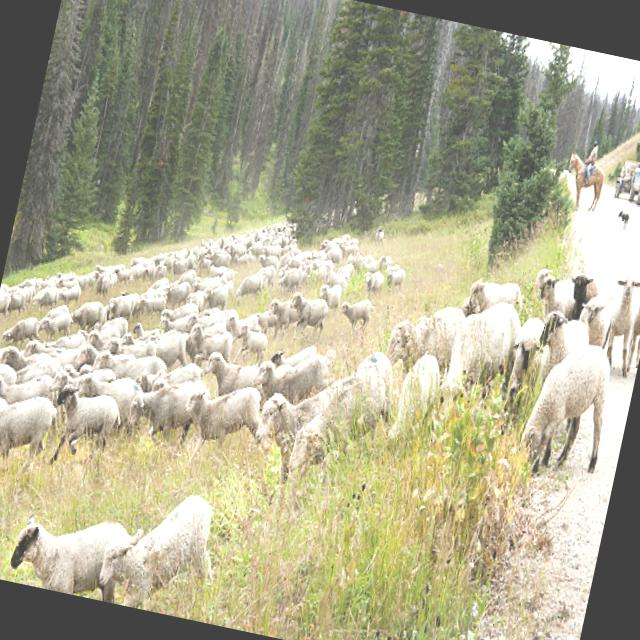Vehicle: (612, 157, 640, 201), (625, 149, 640, 211)
